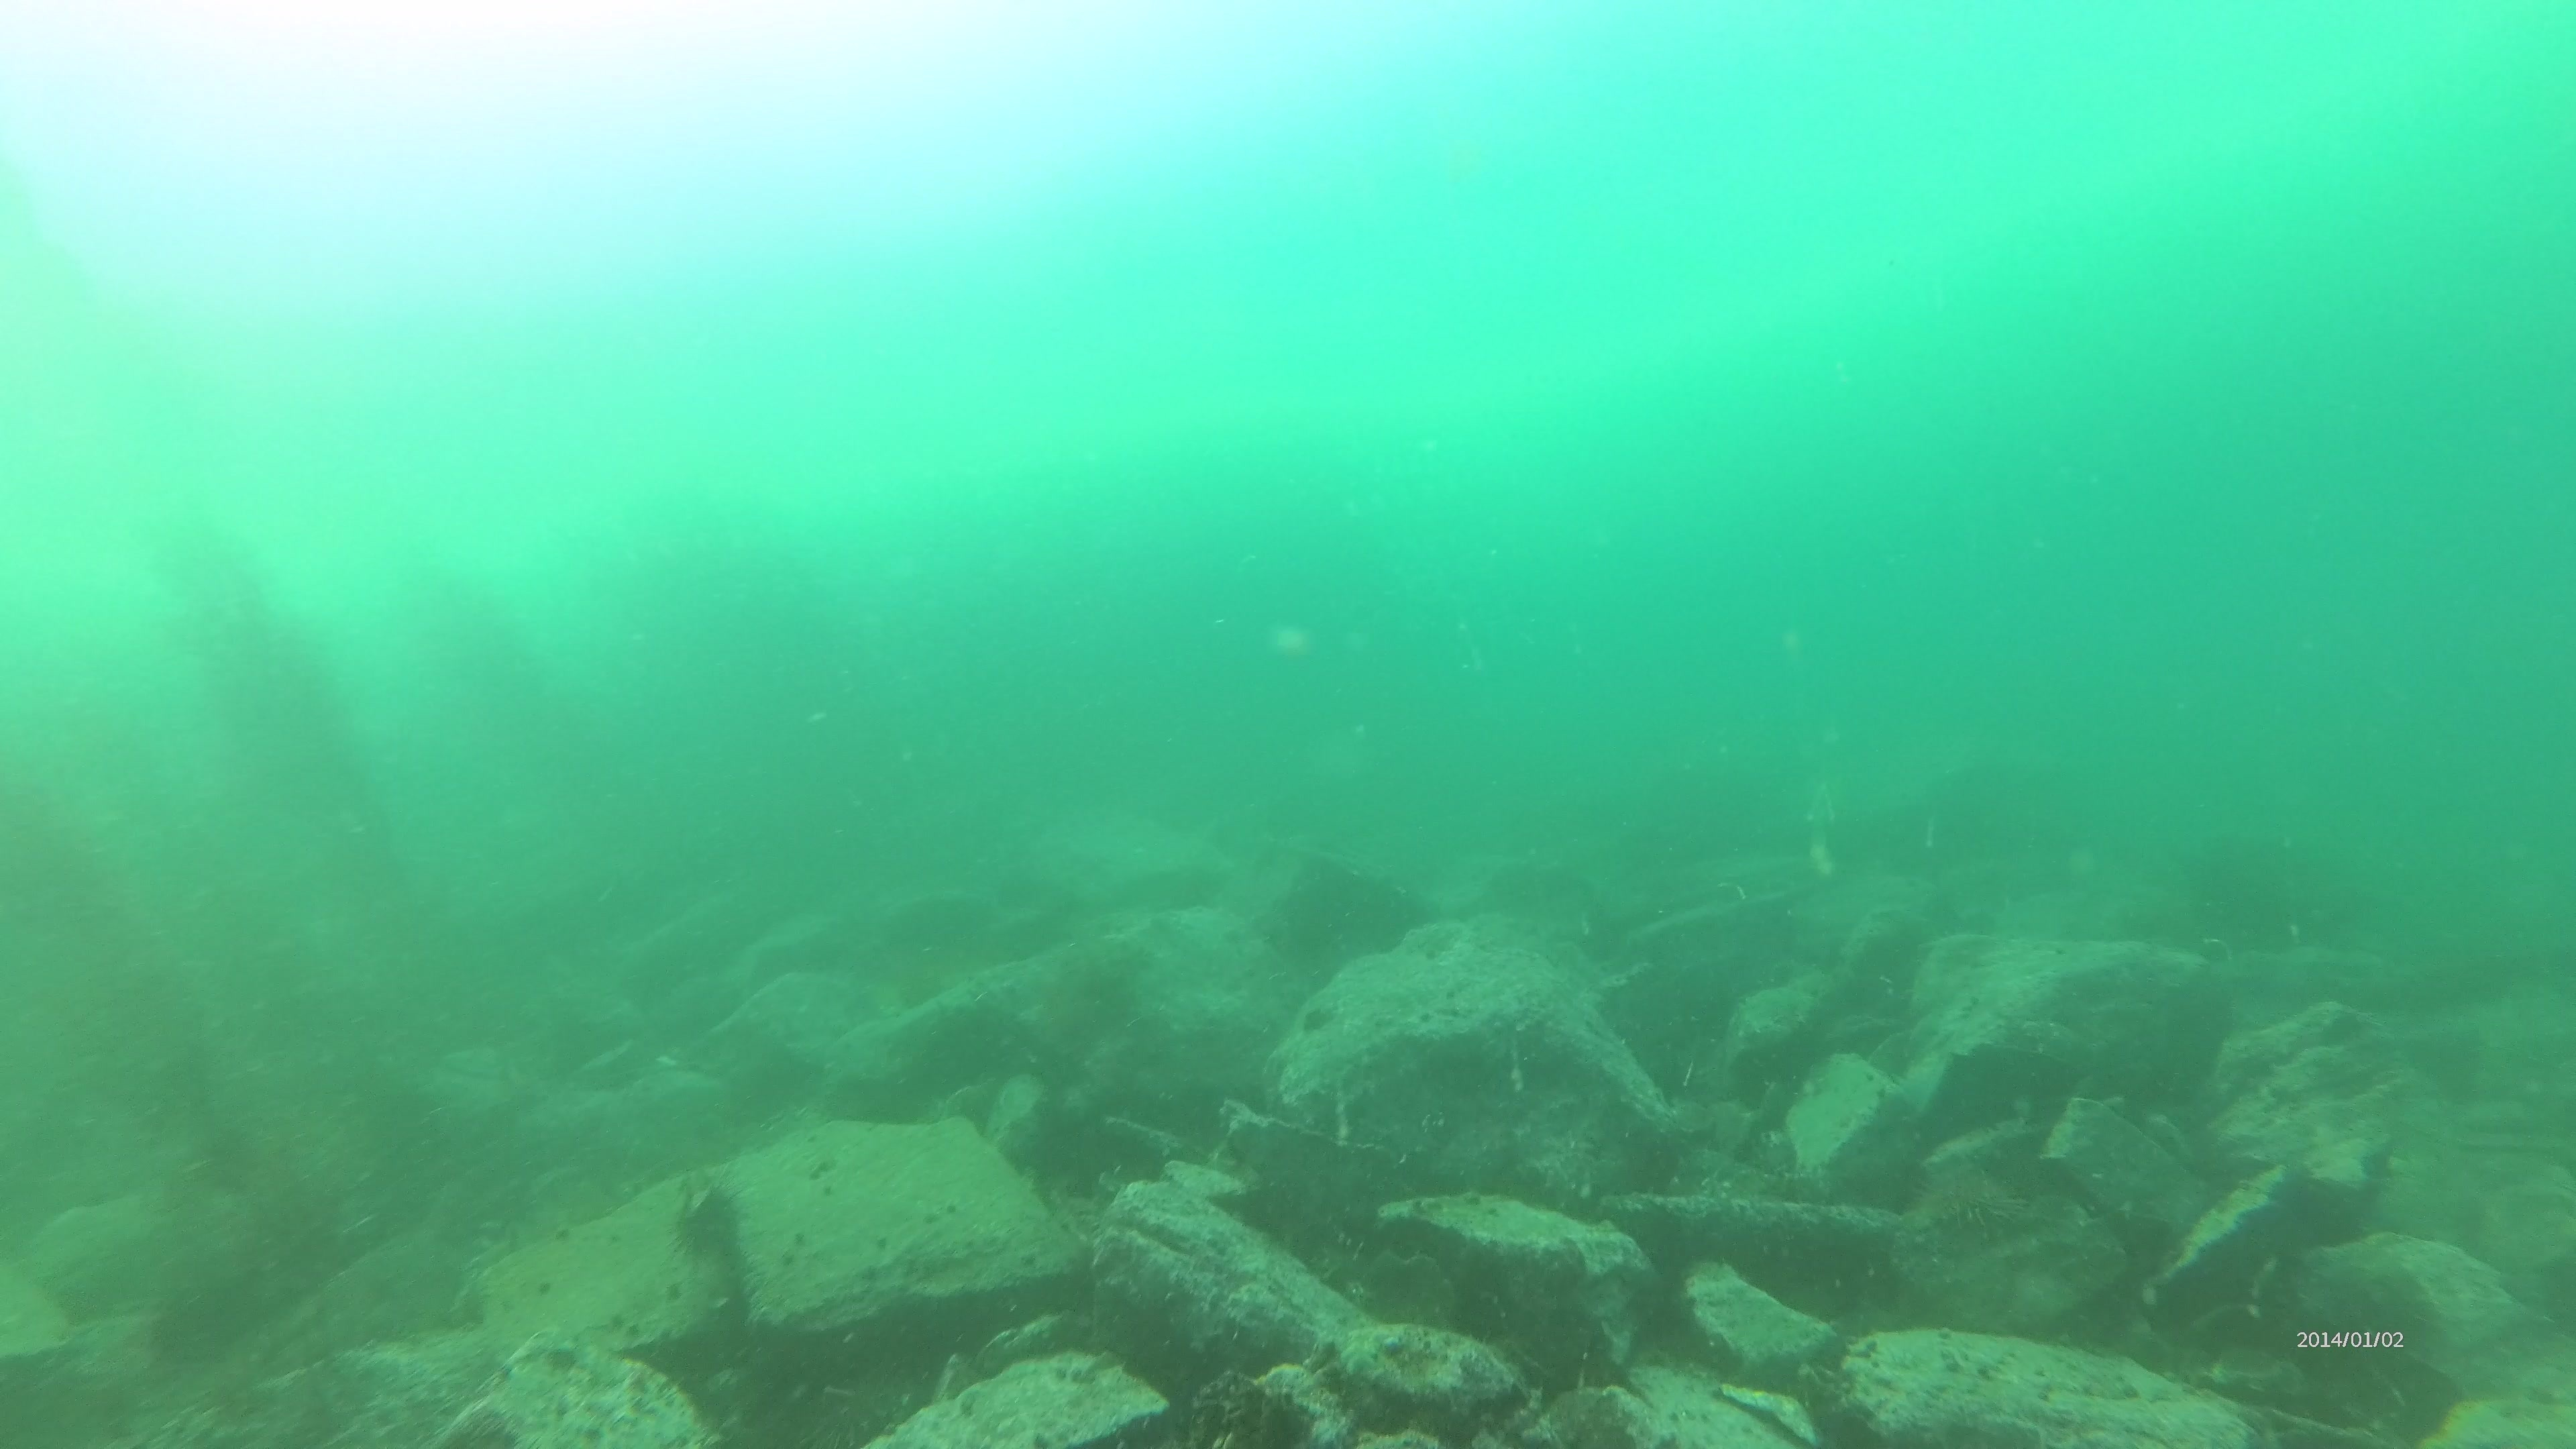echinus: (803, 1369, 931, 1449), (663, 1177, 754, 1272), (1913, 1164, 2019, 1240)
